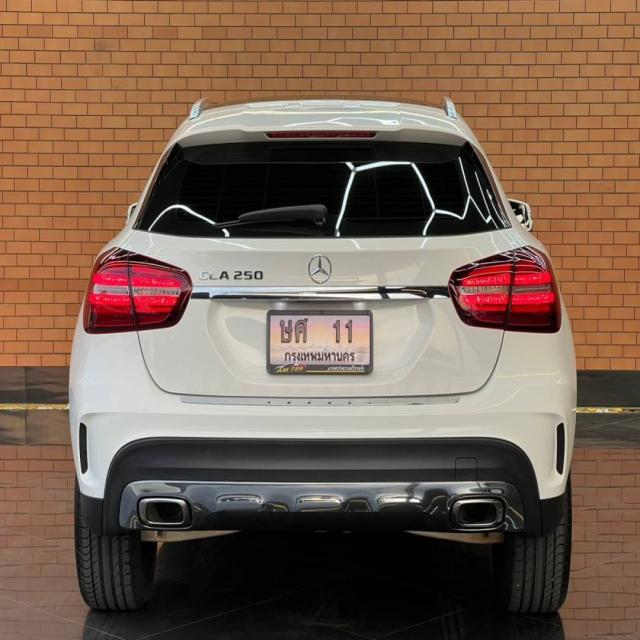license_plate: (265, 309, 374, 377)
